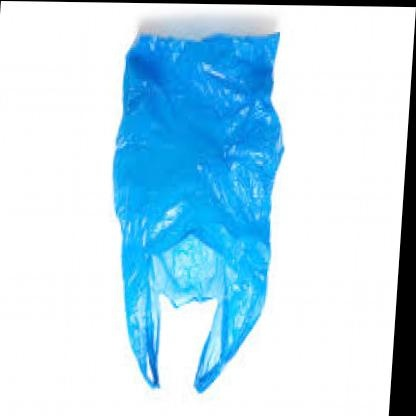trash: (113, 33, 282, 391)
